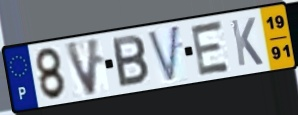8: (34, 46, 69, 102)
B: (110, 33, 151, 90)
E: (188, 18, 232, 78)
K: (229, 15, 266, 68)
V: (62, 36, 103, 99), (145, 23, 182, 85)
